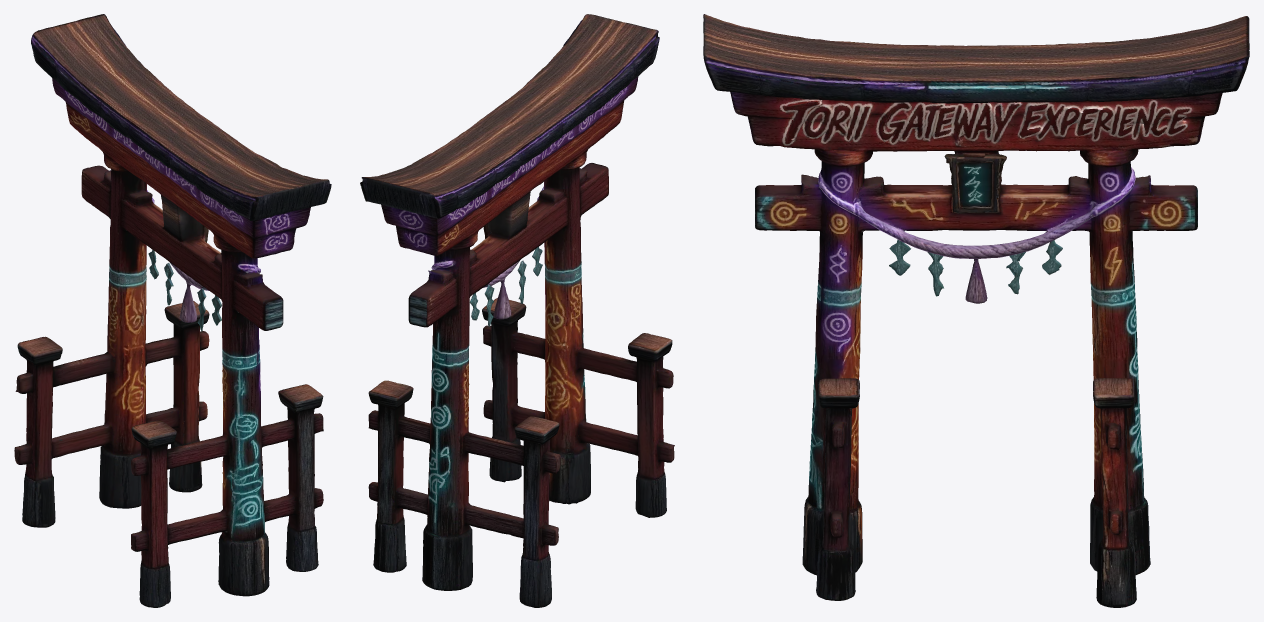
Rendered from torii-gateway-experience.glb.
The picture shows the model from 3 angles, left to right: view 1: azimuth 30°, elevation 25°; view 2: azimuth 150°, elevation 25°; view 3: azimuth 270°, elevation 25°; orthographic projection. The views are drawn at different scales.
Visible parts, largest first — view 1: tripo_node_63a96134-eb55-42f1-9b92-ee3ac414b322; view 2: tripo_node_63a96134-eb55-42f1-9b92-ee3ac414b322; view 3: tripo_node_63a96134-eb55-42f1-9b92-ee3ac414b322.
Part boxes in pixels (<box>): tripo_node_63a96134-eb55-42f1-9b92-ee3ac414b322: <box>14,14,331,607</box>; tripo_node_63a96134-eb55-42f1-9b92-ee3ac414b322: <box>360,14,674,607</box>; tripo_node_63a96134-eb55-42f1-9b92-ee3ac414b322: <box>703,14,1249,607</box>.
Size of the model in its own units: 0.4531 by 0.9995 by 0.9365.
1 material, 1 textured.
